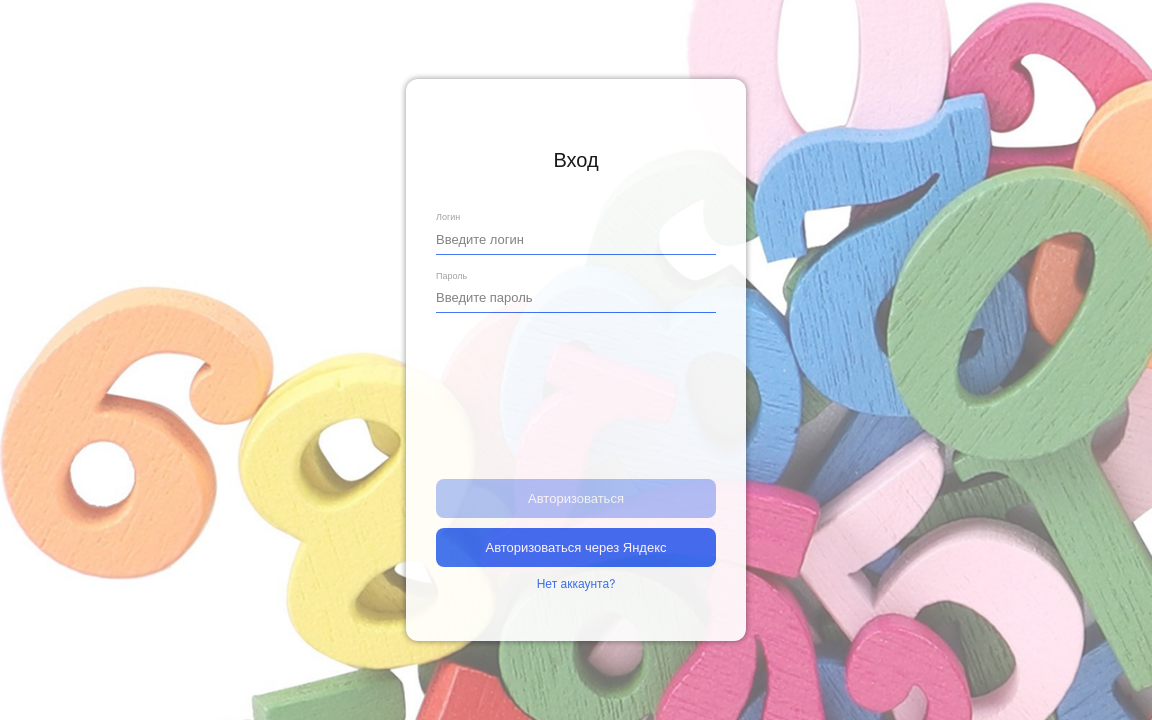
Test case: LoginPage › show error validate for input
Type "j" into the field labelled "Логин".
click(576, 239); type("j")  # box 436,223 -> 716,255
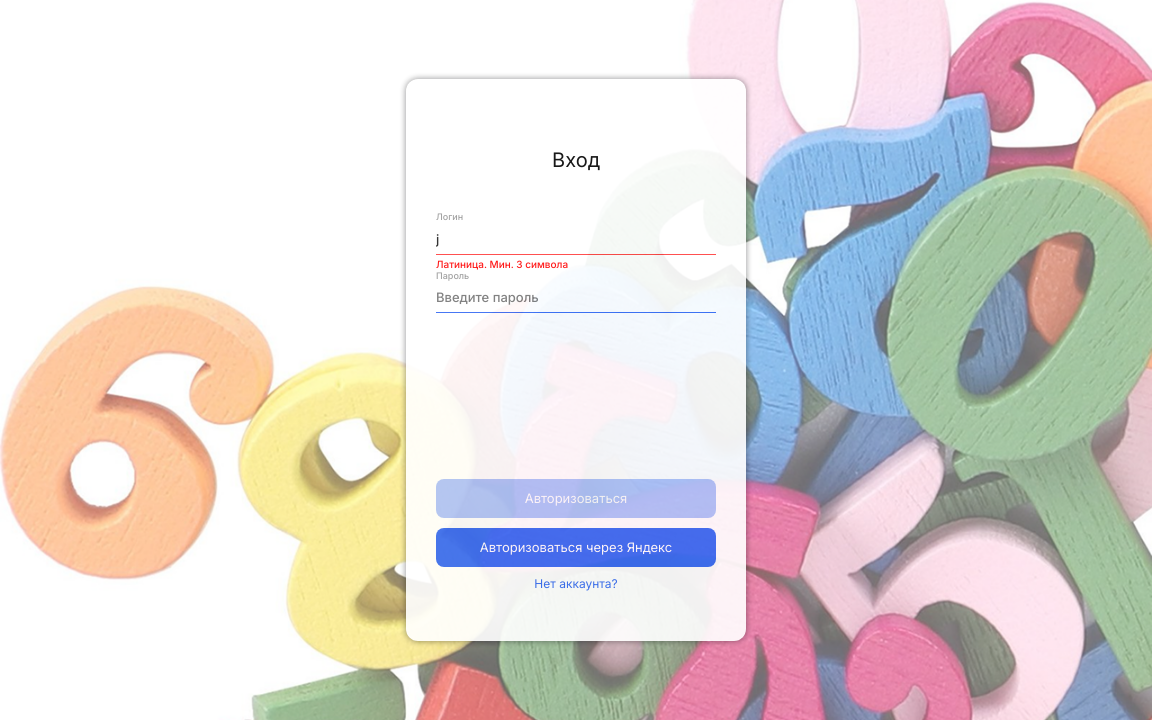
Expected: the text "Латиница. Мин. 3 символа" is shown, 436,259 -> 568,271
